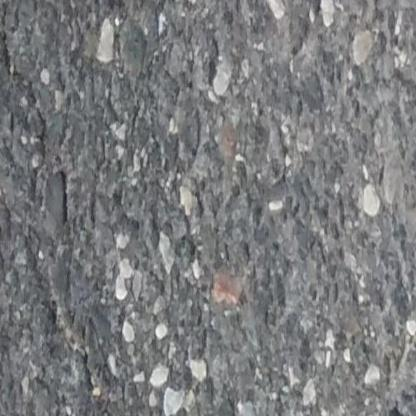Cracks: (24, 245, 95, 393), (0, 19, 53, 167)
